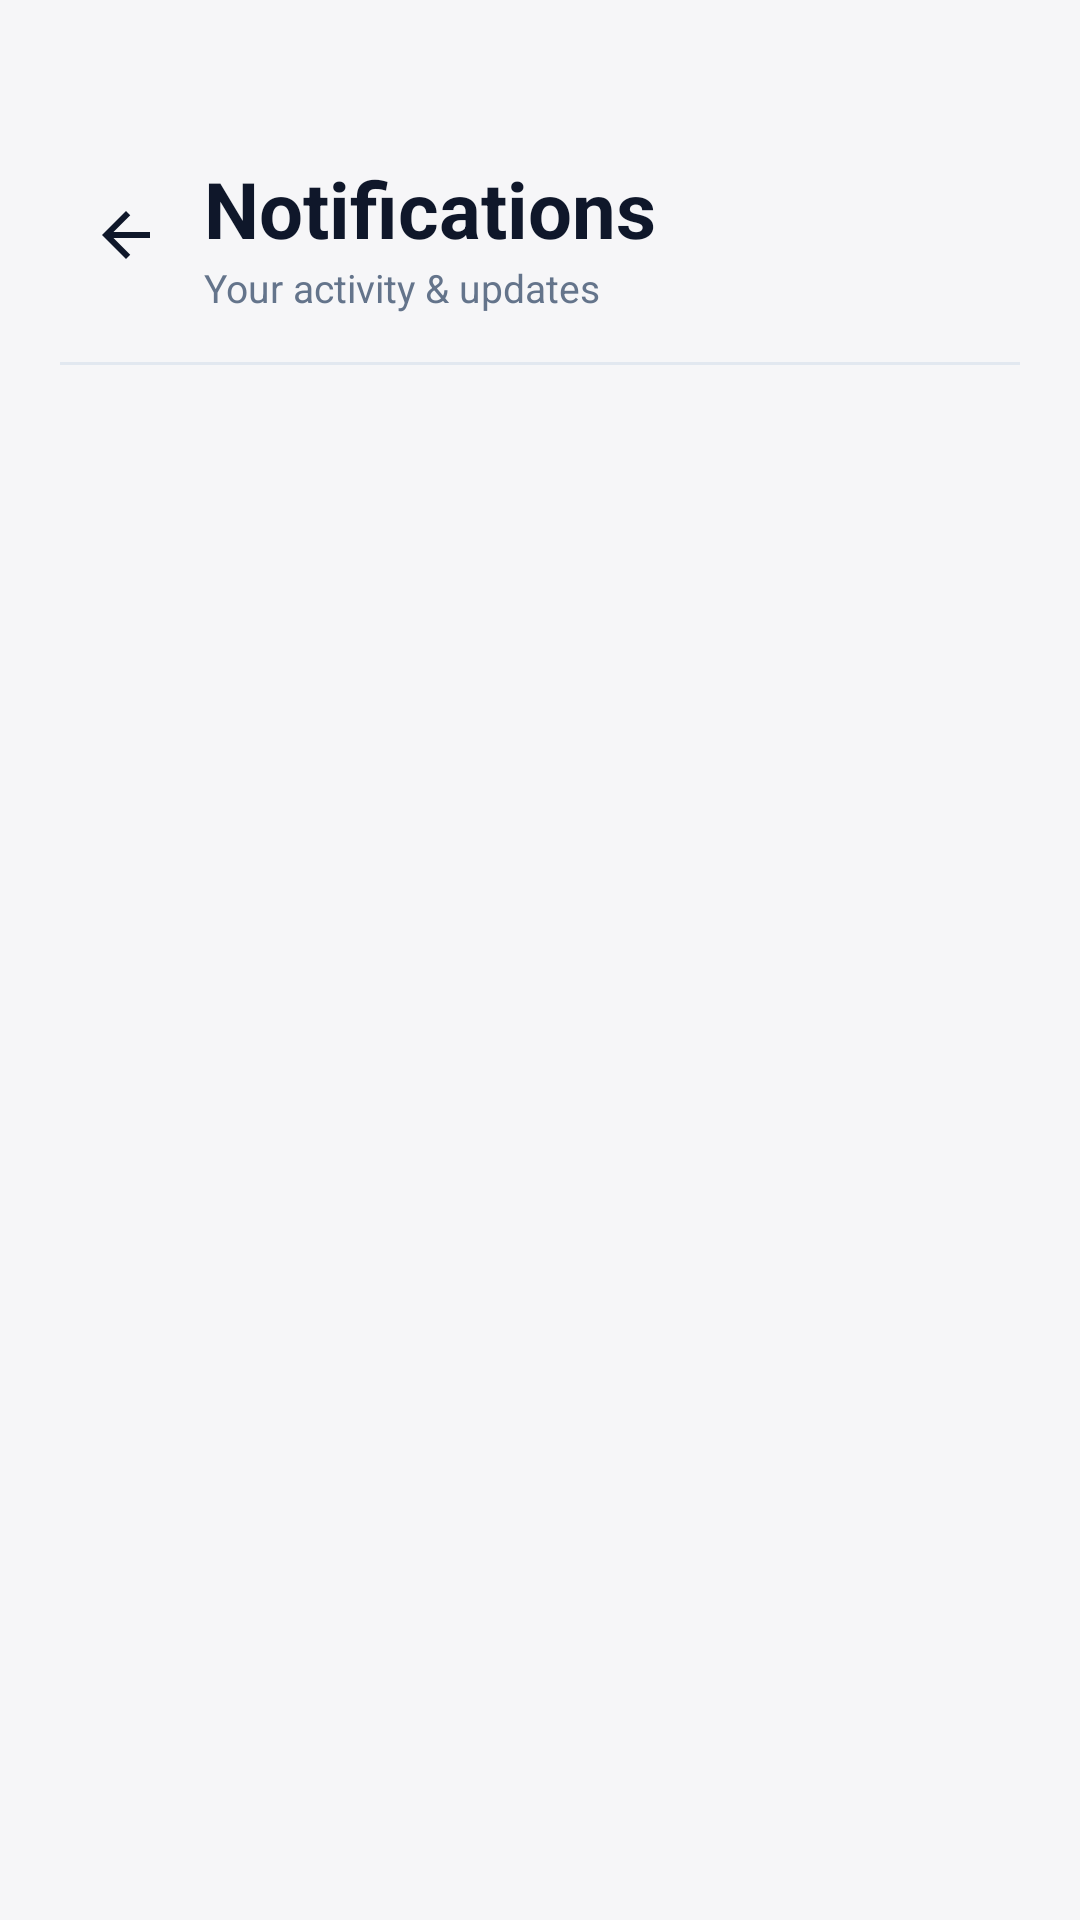

Locate icon controls on the screen. Image size 1080px×1920px, boxes as (x1, y1, x2, y2).
arrow back: (102, 211, 150, 259)
